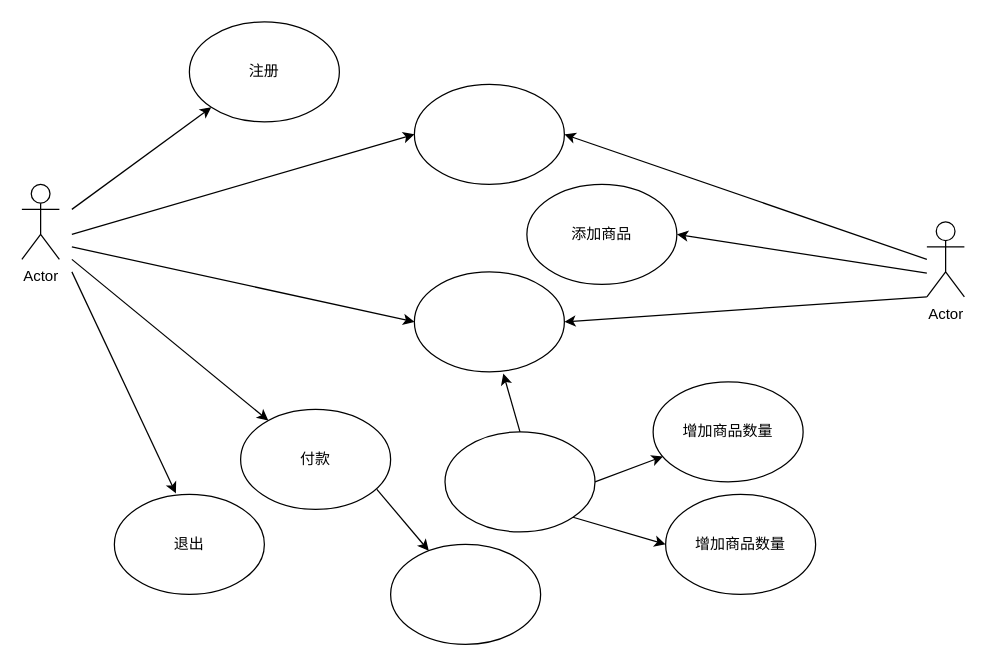
This 986x666 diagram has some shape labels left out. The centre of each missing label's shape, as x and y in pixels:
"加入购物车" goes at (x=519, y=481).
"待发货页面" goes at (x=465, y=593).
"浏览商品" goes at (x=488, y=321).
"登录" goes at (x=488, y=133).
